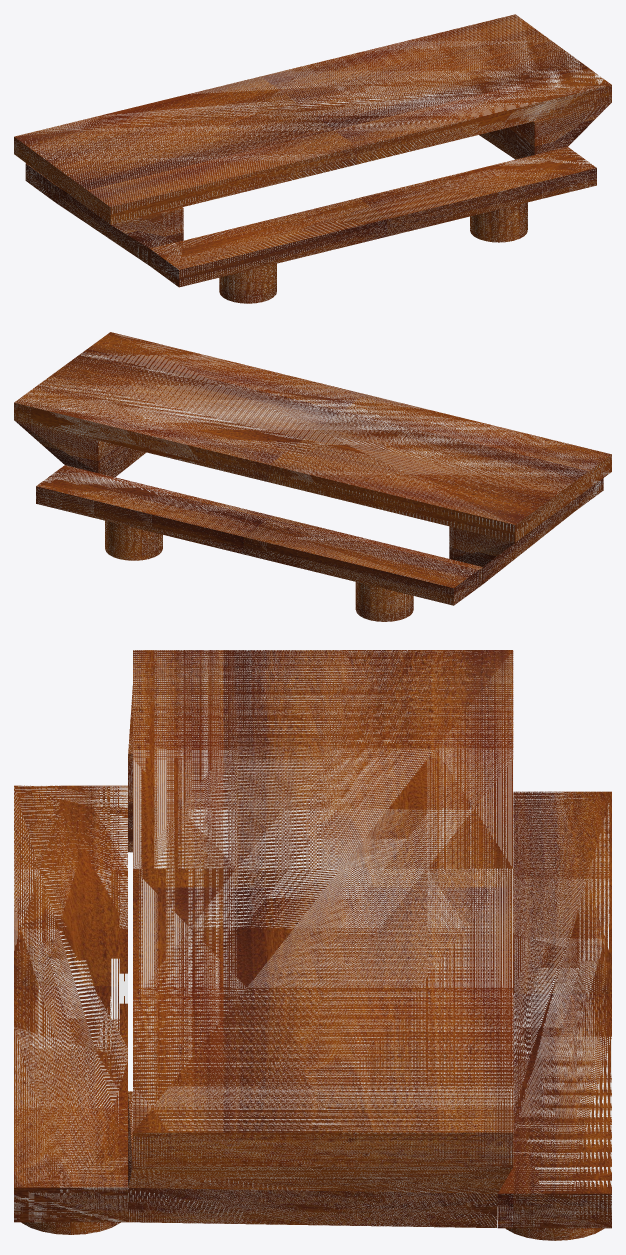
3 views of the same model, one above another, from view 1: azimuth 30°, elevation 25°; view 2: azimuth 150°, elevation 25°; view 3: azimuth 270°, elevation 25° (orthographic). The views are drawn at different scales.
Parts seen in each view (by area): view 1: mesh1_mesh1-geometry; view 2: mesh1_mesh1-geometry; view 3: mesh1_mesh1-geometry.
Part boxes in pixels (<box>): mesh1_mesh1-geometry: <box>14,14,611,303</box>; mesh1_mesh1-geometry: <box>14,332,611,621</box>; mesh1_mesh1-geometry: <box>14,650,611,1240</box>.
Size of the model in its own units: 0.8719 by 0.1767 by 0.4567.
